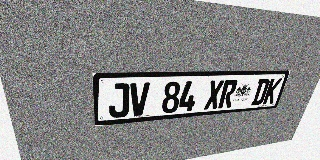4: (178, 81, 199, 112)
8: (161, 81, 182, 114)
D: (251, 79, 271, 105)
J: (109, 83, 130, 118)
K: (262, 78, 282, 104)
R: (218, 80, 238, 108)
V: (129, 82, 150, 116)
X: (204, 80, 224, 110)
